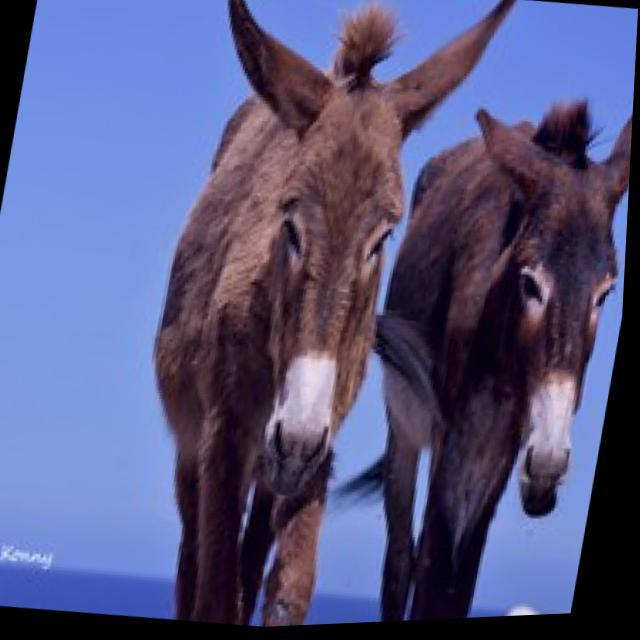Donkey: (110, 0, 517, 635), (323, 70, 636, 628)
